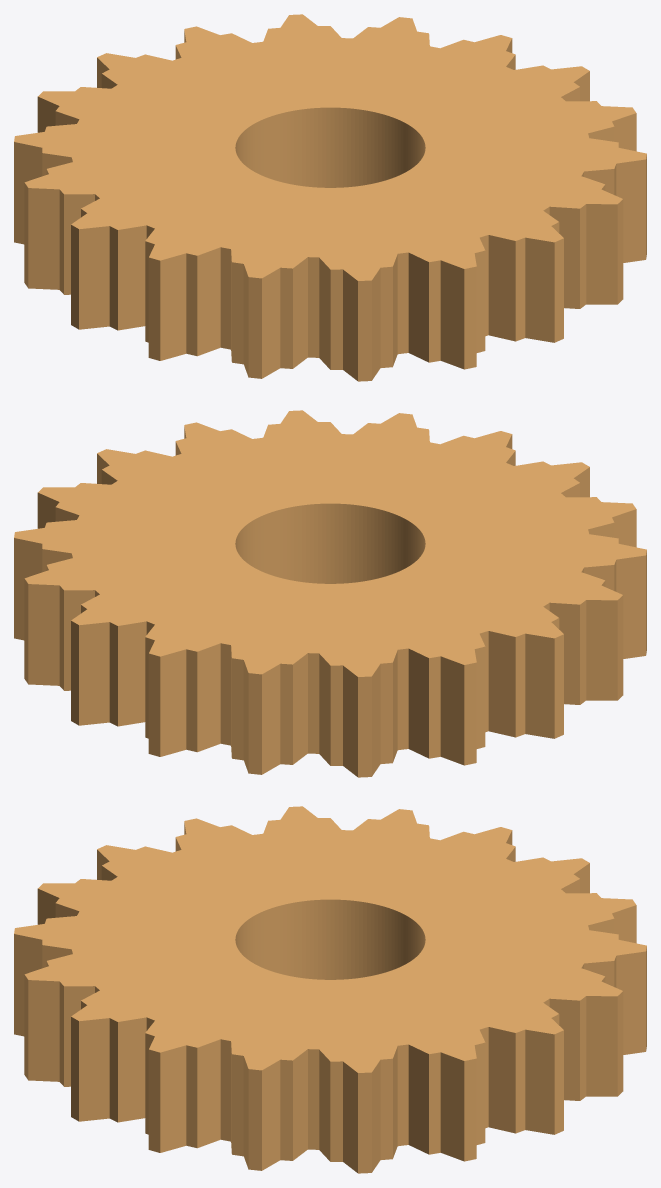
File: spur-gear.glb
3 views of the same model, one above another, from view 1: azimuth 30°, elevation 25°; view 2: azimuth 150°, elevation 25°; view 3: azimuth 270°, elevation 25° (orthographic).
Size of the model in its own units: 1.99 by 0.35 by 2.
